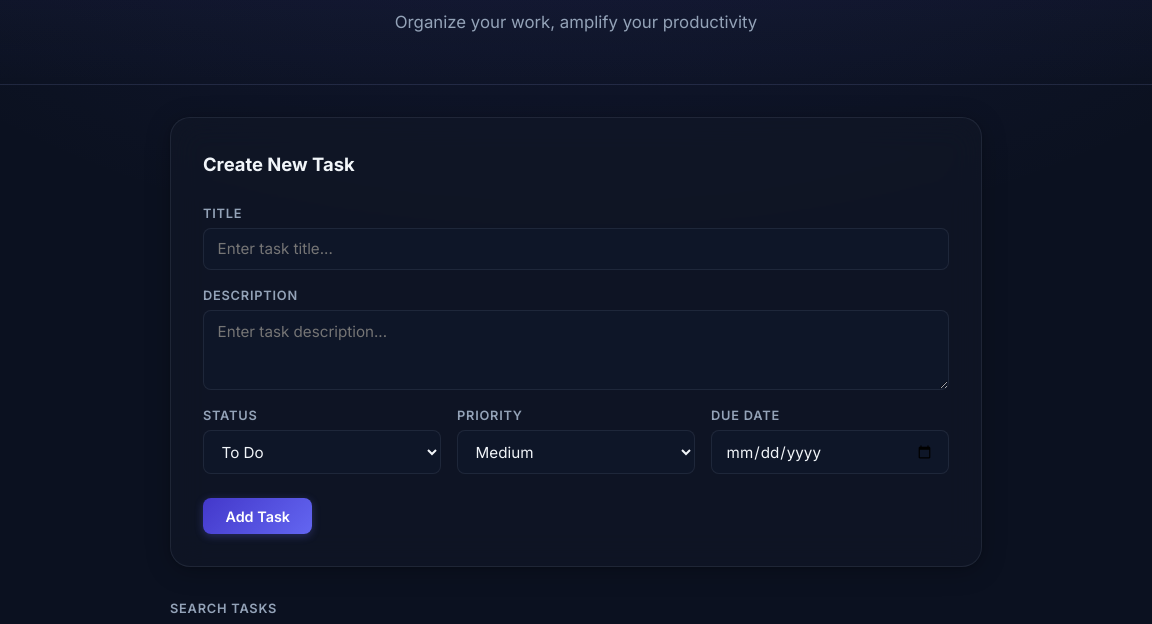
Test: Dashboard › deleting a task › removes a task from the list
This screenshot has width=1152, height=624.
Type "Task to Delete" into the field labelled "Title" at (576, 249), box [203,228,949,270]
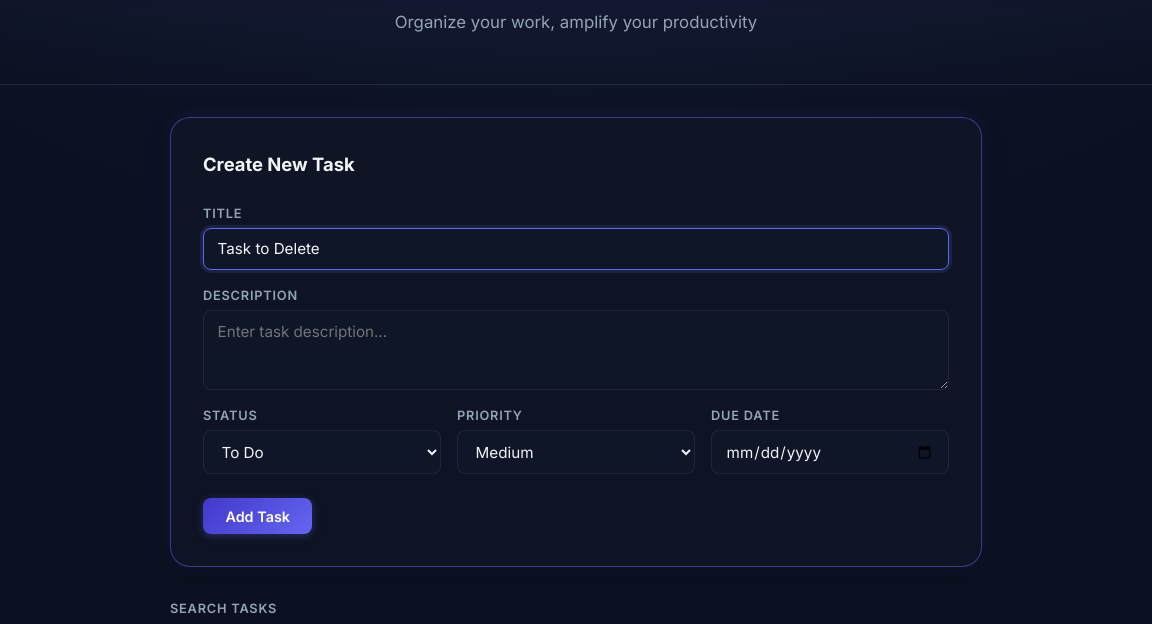
Type "2026-06-10" into the date field labelled "Due Date" at (830, 452), box [711,430,949,474]
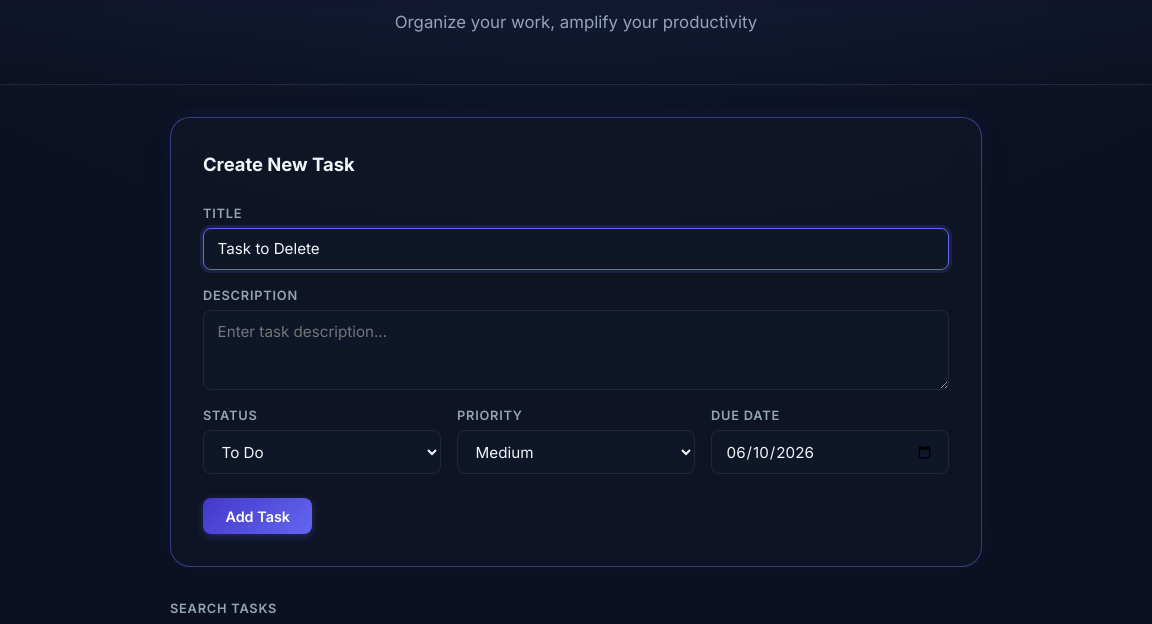
Click the button "Add Task" at (258, 516), box [203,498,312,534]
(page scrolled)
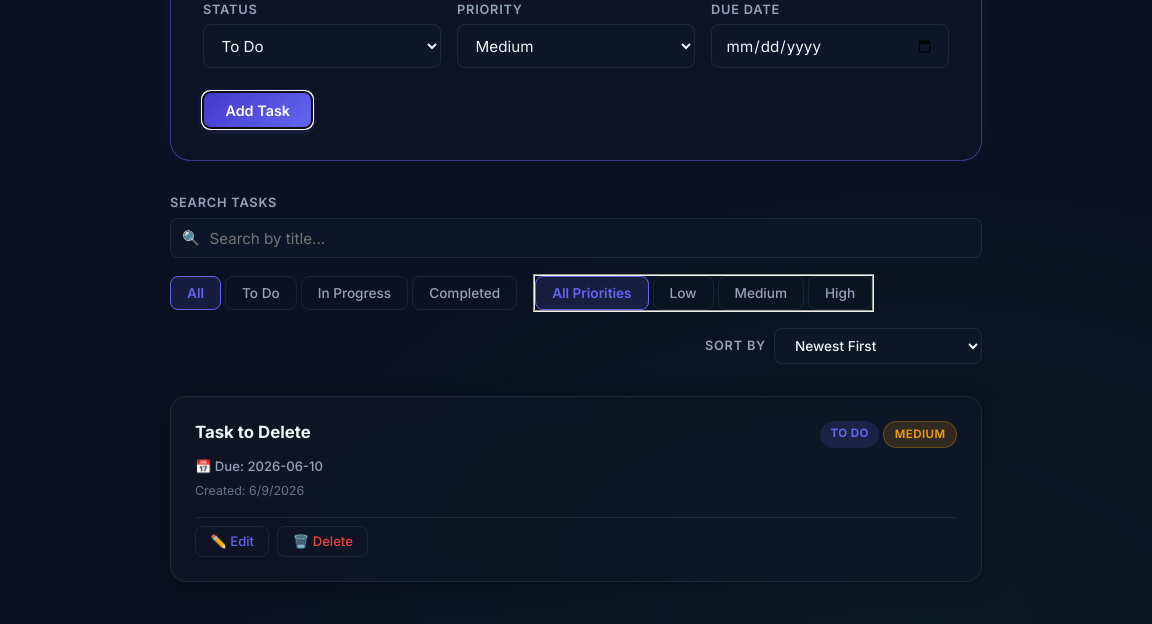
Expected: the heading "Task to Delete" is shown, [195,421,311,445]
Click the button with aria-label "delete task to delete" at (323, 541), box [277,526,368,557]
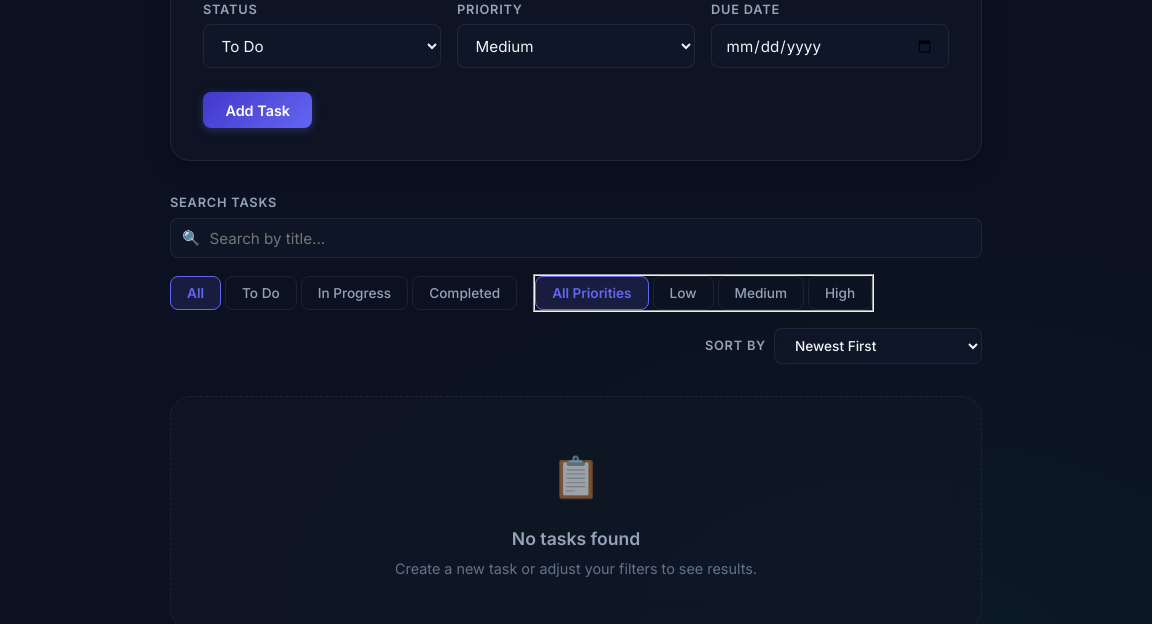
Expected: the heading "Task to Delete" is gone
